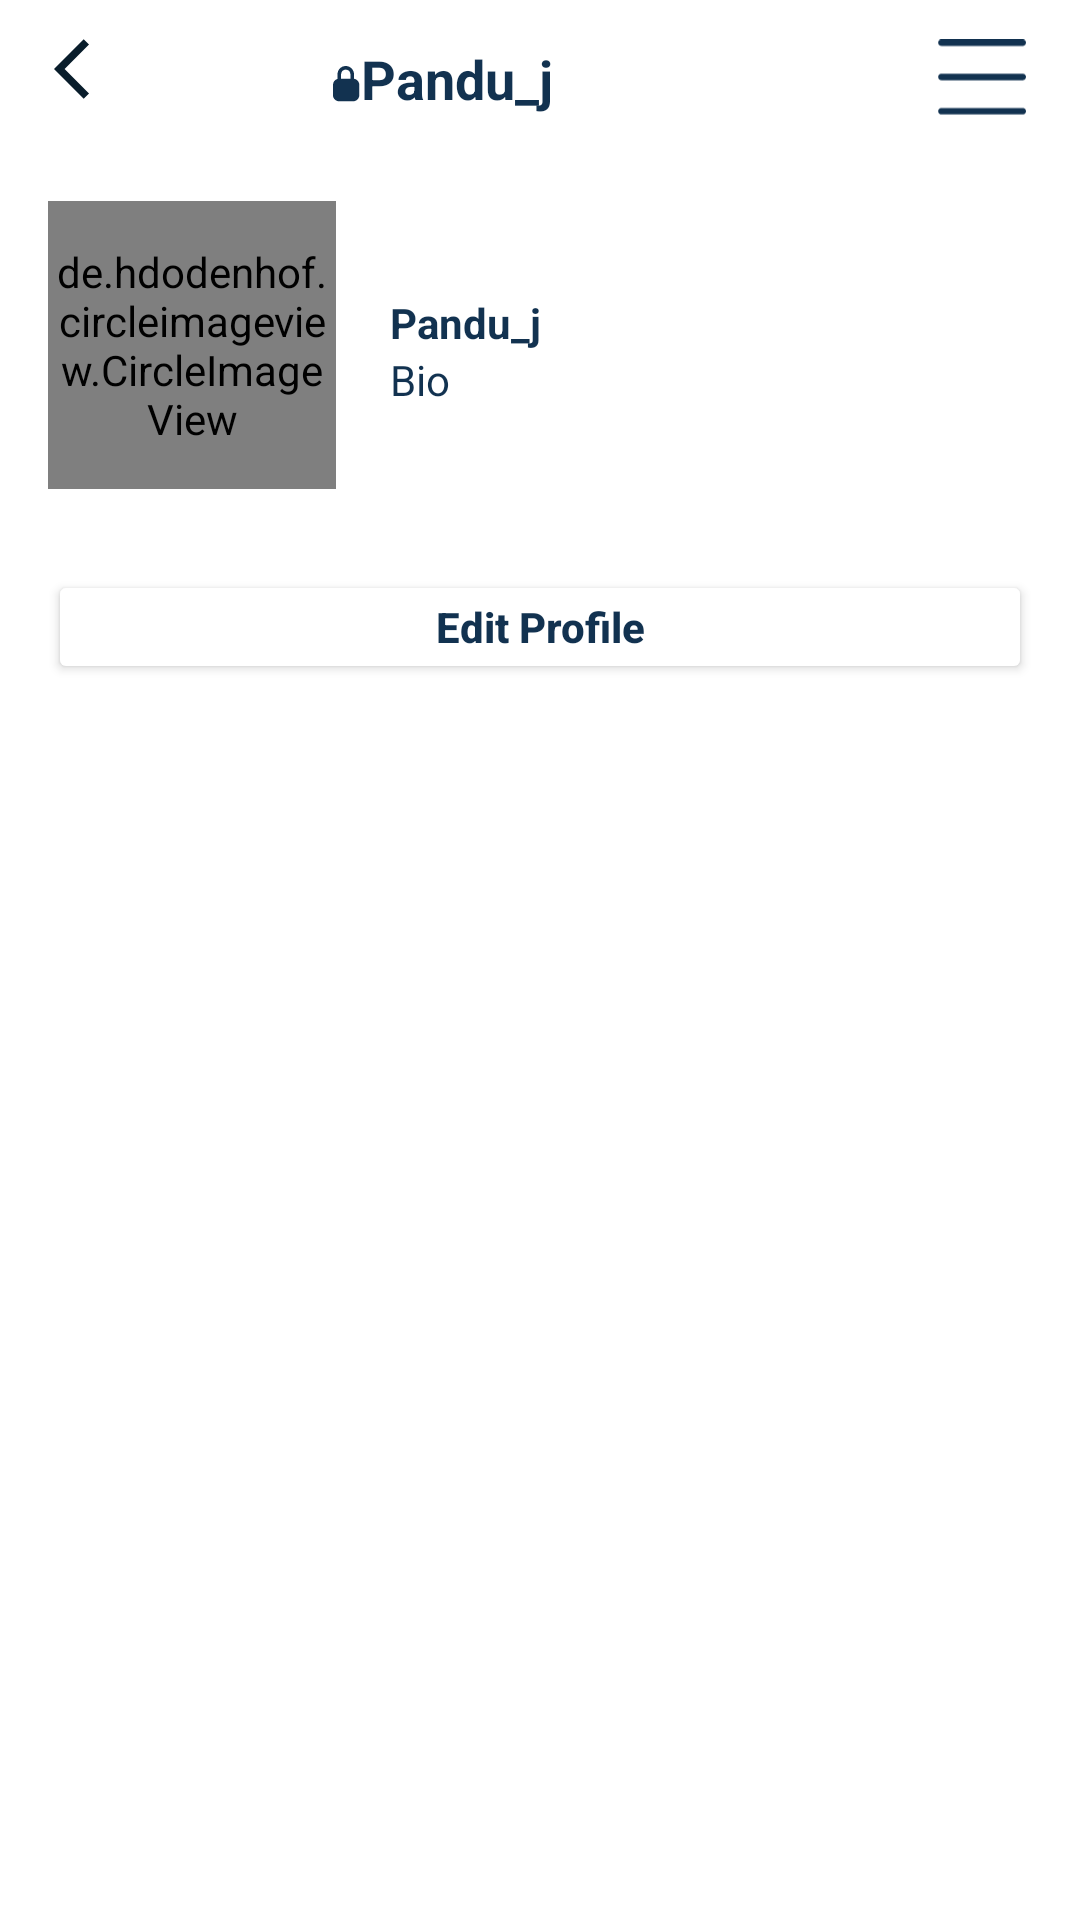

Icons on this 1080w x 1920h Android screen, each with its box as (x1, y1, x2, y2):
back arrow: (54, 39, 89, 99)
privacy: (333, 66, 360, 102)
profile options: (938, 39, 1026, 115)
